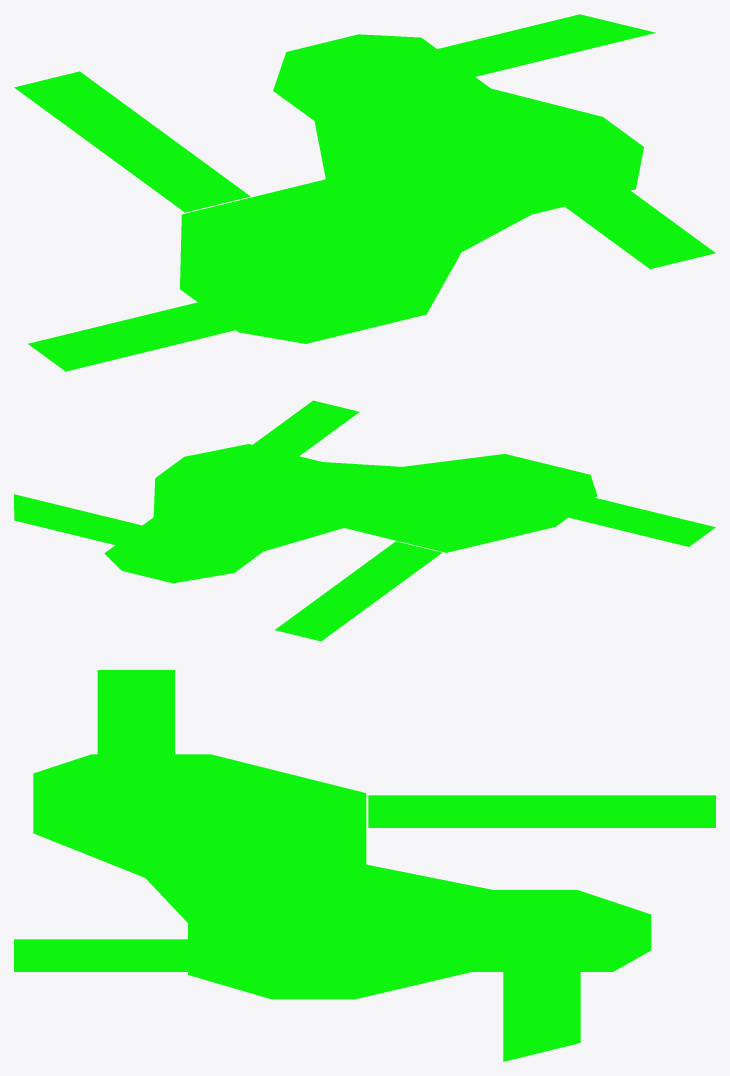
File: s01b_xb2-floor.glb
The picture shows the model from 3 angles, top to bottom: view 1: azimuth 30°, elevation 25°; view 2: azimuth 150°, elevation 25°; view 3: azimuth 270°, elevation 25°; orthographic projection. The views are drawn at different scales.
Visible parts, largest first — view 1: collision_floor-colonly; view 2: collision_floor-colonly; view 3: collision_floor-colonly.
Part boxes in pixels (x1=…): collision_floor-colonly: x1=14, y1=14, x2=715, y2=371; collision_floor-colonly: x1=14, y1=400, x2=715, y2=641; collision_floor-colonly: x1=14, y1=670, x2=715, y2=1061.
Size of the model in its own units: 72 by 0 by 54.5.
